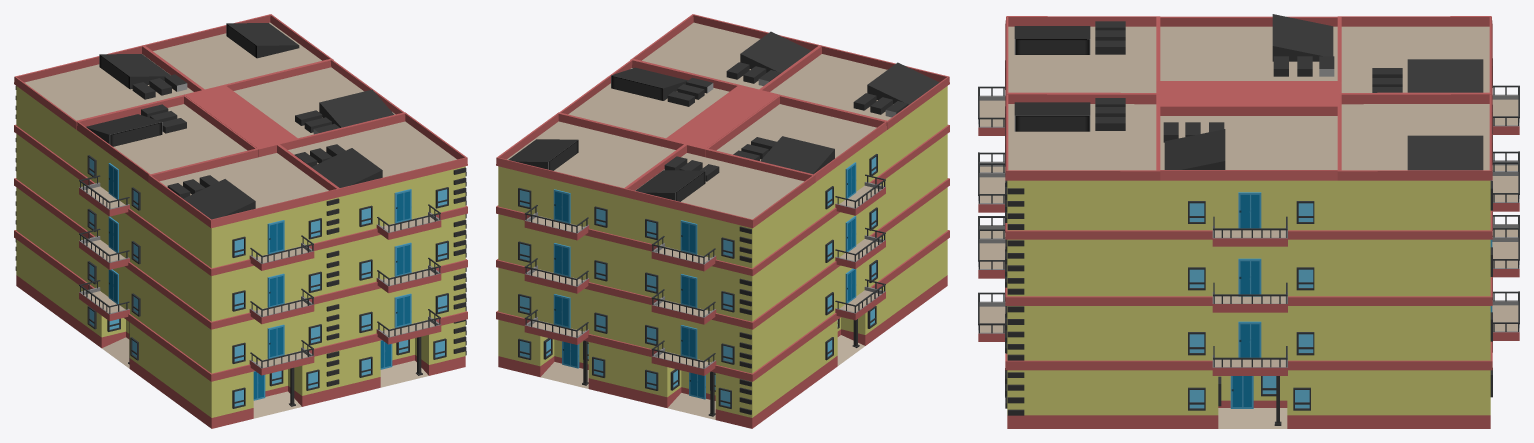
Rendered from mHouse1.fbx.
The picture shows the model from 3 angles, left to right: view 1: azimuth 30°, elevation 25°; view 2: azimuth 150°, elevation 25°; view 3: azimuth 270°, elevation 25°; orthographic projection. The views are drawn at different scales.
Visible parts, largest first — view 1: pCube94; view 2: pCube94; view 3: pCube94.
Boxes of the visible parts, <box> form: pCube94: <box>14,14,467,428</box>; pCube94: <box>496,14,949,428</box>; pCube94: <box>978,14,1519,428</box>.
Size of the model in its own units: 27.88 by 19.36 by 35.88.
4 materials, 1 textured.
